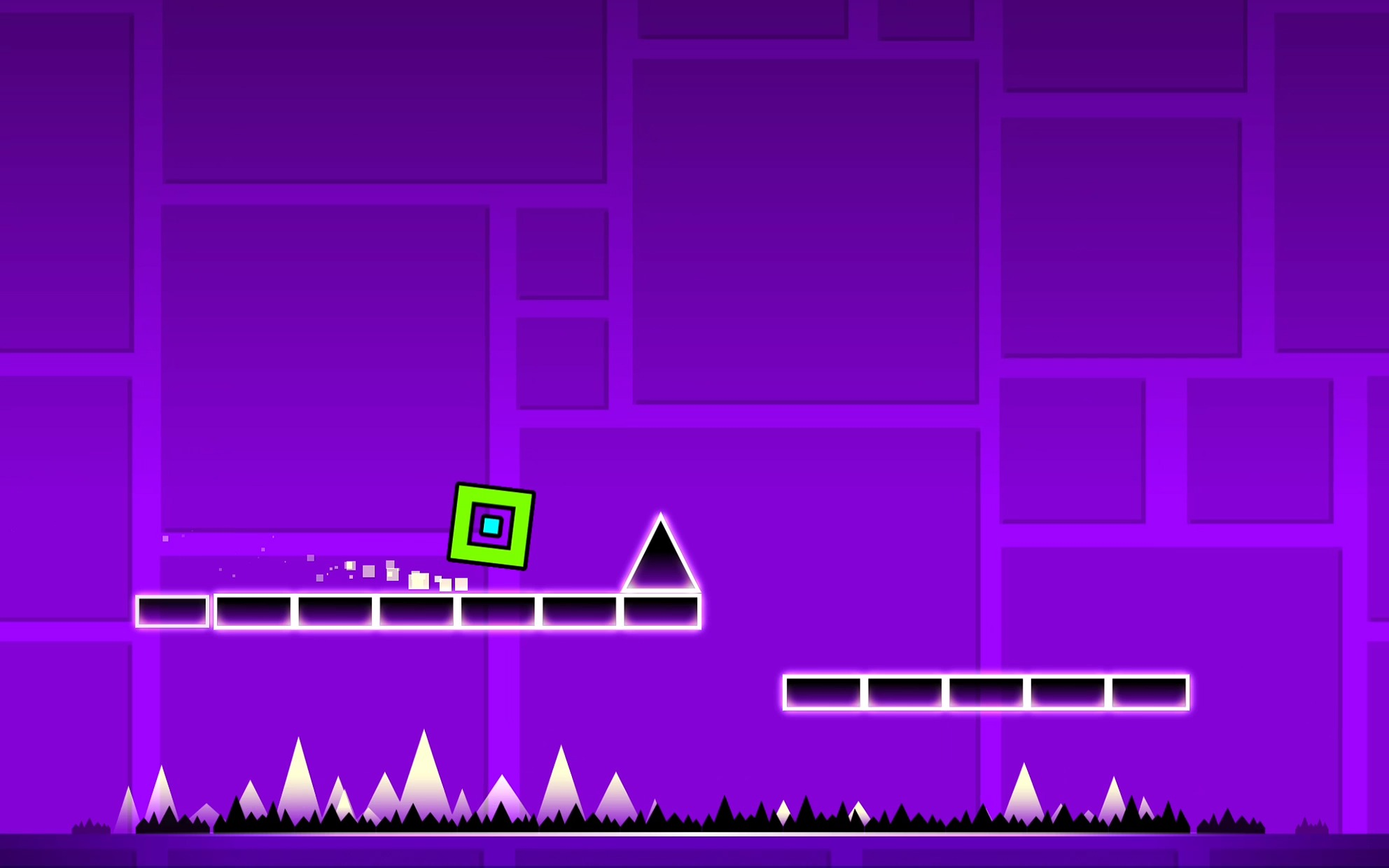Block3: (1024, 674, 1197, 709), (126, 596, 297, 631), (1107, 674, 1193, 710), (781, 674, 869, 709), (209, 597, 296, 630), (140, 596, 219, 630), (867, 676, 947, 707), (624, 594, 699, 626), (381, 594, 452, 627), (299, 594, 370, 626), (462, 594, 533, 625), (543, 596, 616, 626), (950, 678, 1021, 706)
Player: (449, 485, 533, 569)
Spike: (621, 516, 700, 594)
Spike3: (82, 790, 1381, 831)
